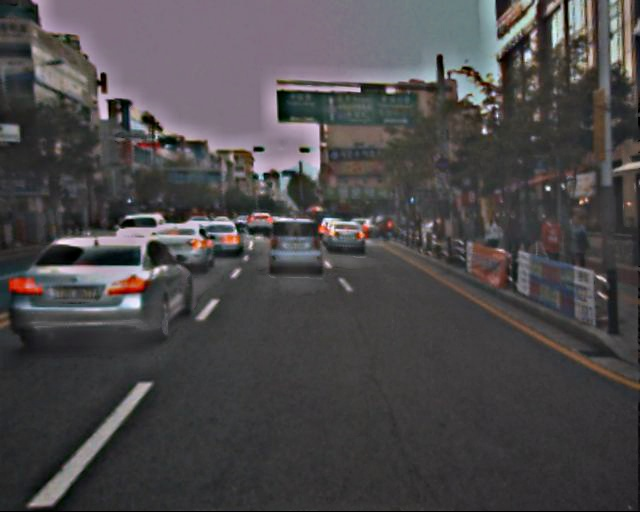person: (556, 220, 586, 292), (536, 216, 563, 282), (501, 213, 526, 275), (482, 219, 504, 272)
